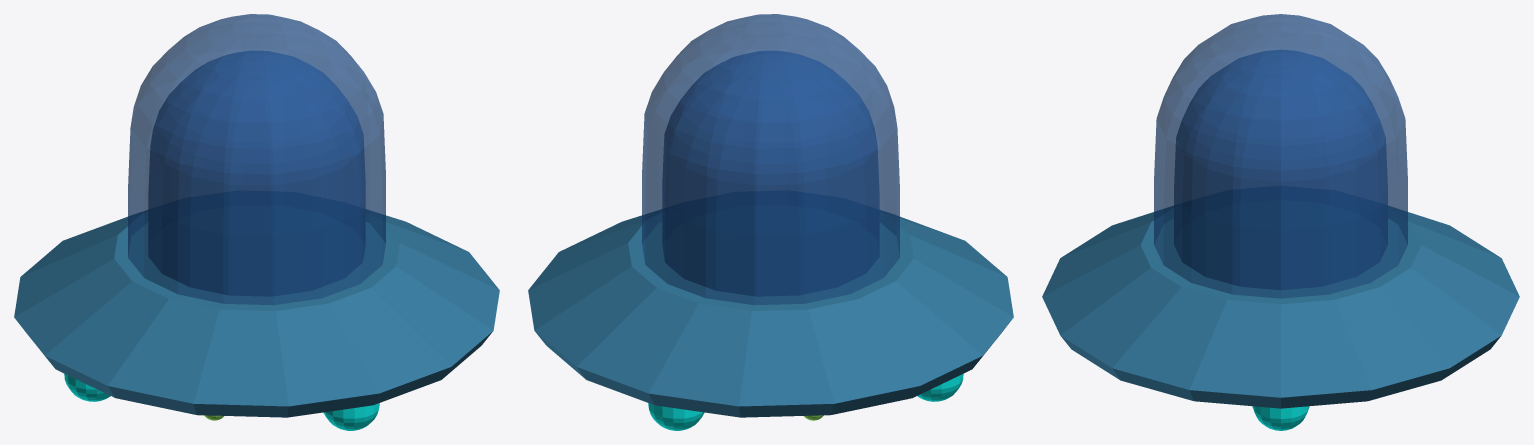
Rendered from UFO.fbx.
3 renders of one model, left to right at view 1: azimuth 30°, elevation 25°; view 2: azimuth 150°, elevation 25°; view 3: azimuth 270°, elevation 25°, orthographic. The views are drawn at different scales.
Parts seen in each view (by area): view 1: Cylinder.002; view 2: Cylinder.002; view 3: Cylinder.002.
Boxes of the visible parts, bbox=[...] form: Cylinder.002: bbox=[14, 14, 499, 430]; Cylinder.002: bbox=[528, 14, 1013, 430]; Cylinder.002: bbox=[1042, 14, 1519, 430].
Bounding box in the file's own units: 2660 × 1997 × 2660.
